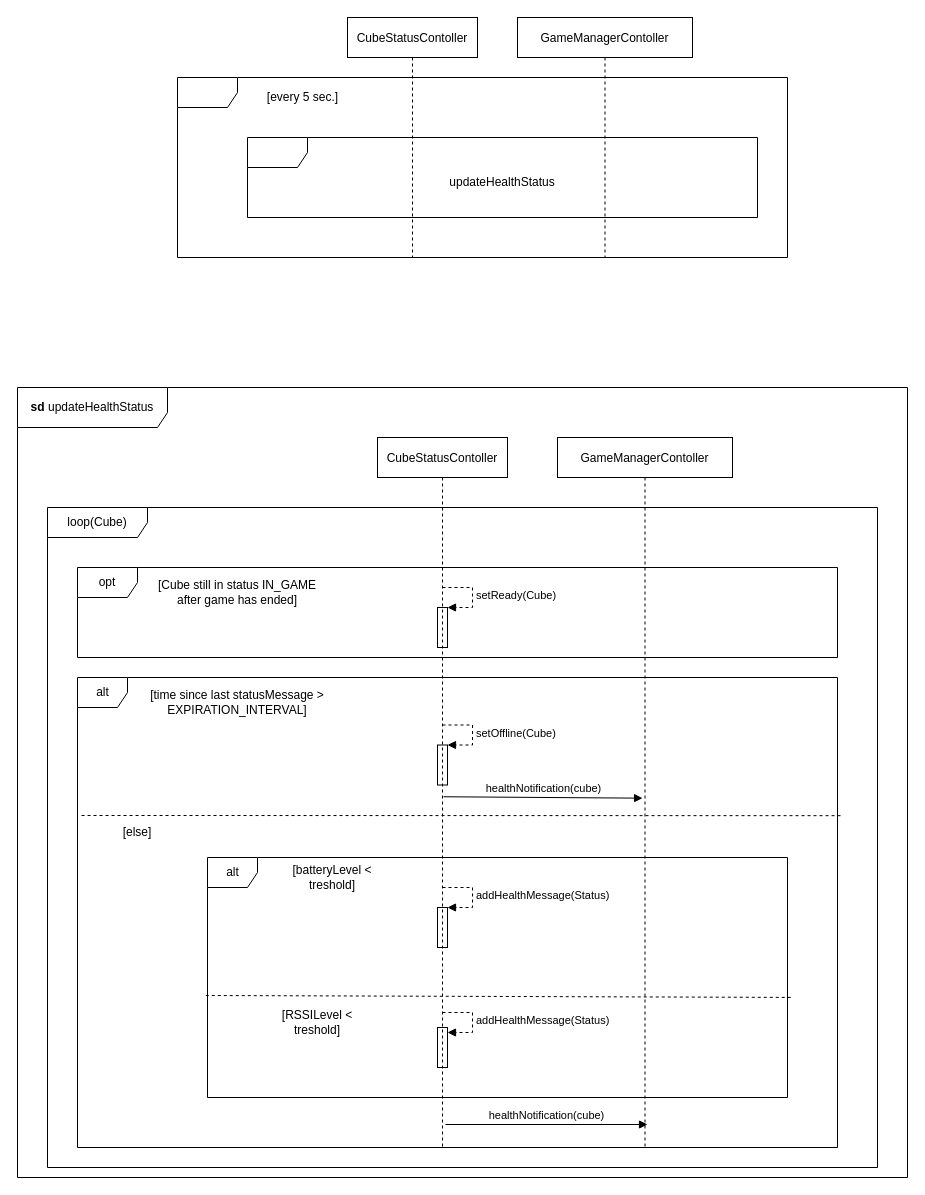
This 925x1195 diagram has some shape labels left out. The shapes that lost their labels are listed below. From the top down, each one's box as (x1, y1, x2, y2) in pixels, then its label:
(176, 76, 788, 258): loop
(246, 136, 758, 218): ref
